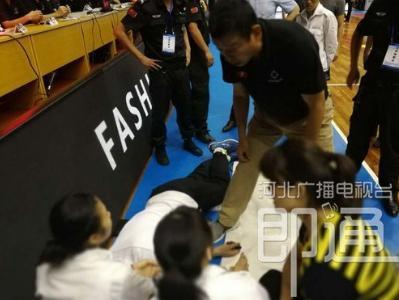Fall-Detected: (109, 128, 248, 291)
